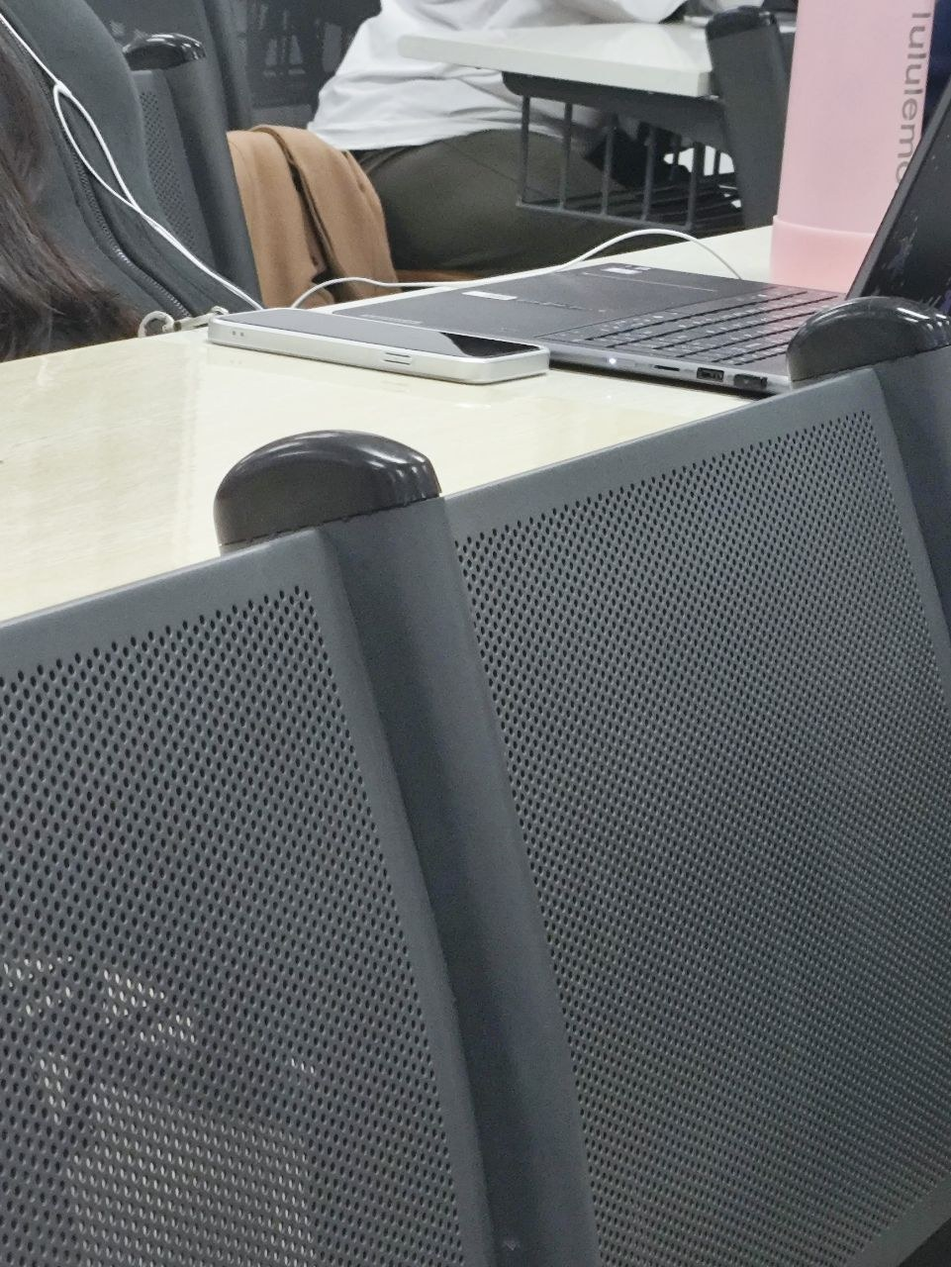cell phone: (207, 305, 555, 391)
laptop: (324, 79, 949, 395)
